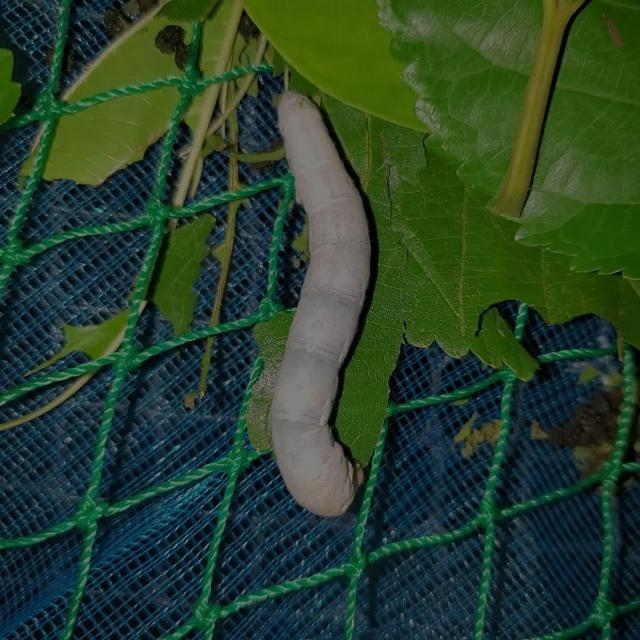Healthy: (253, 77, 398, 524)
